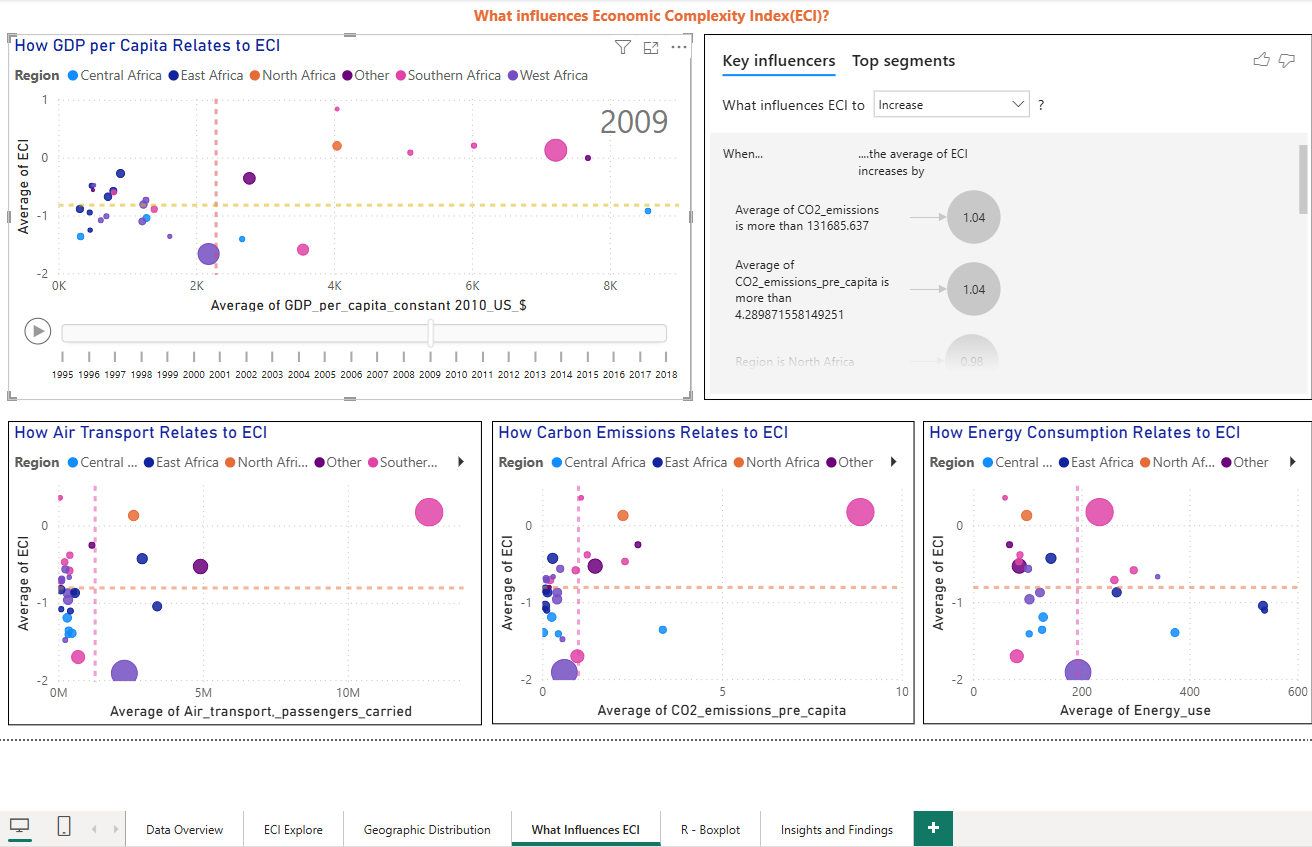

The dashboard page shown, as its layout file describes it:
{"tool":"powerbi","page":{"name":" What Influences ECI","canvas":[1280,720],"ordinal":3},"visuals":[{"type":"textbox","box":[9.7,0,1251.8,50.6],"z":0},{"type":"scatterChart","title":"How GDP per Capita Relates to ECI","fields":{"X":["Avg(Energy_Data.GDP_per_capita_constant 2010_US_$)"],"Y":["Avg(Energy_Data.ECI)"],"Category":["Energy_Data.Country_Name"],"Play":["Energy_Data.Year_"],"Size":["Avg(Energy_Data.GDP_constant_2010_US$)"],"Series":["Energy_Data.Region"]},"box":[9.9,34,665.4,356.4],"z":1000},{"type":"keyDriversVisual","fields":{"Target":["Energy_Data.ECI"],"ExplainBy":["Avg(Energy_Data.GDP_constant_2010_US$)","Avg(Energy_Data.Energy_use)","Avg(Energy_Data.CO2_emissions)","Energy_Data.Region","Avg(Energy_Data.CO2_emissions_pre_capita)","Avg(Energy_Data.Coal_rents_percent)","Avg(Energy_Data.number_of_international_arrivals)","Avg(Energy_Data.GDP_per_capita_constant 2010_US_$)"]},"box":[686.9,34,592.8,356.4],"z":2000},{"type":"scatterChart","title":"How Energy Consumption Relates to ECI","fields":{"Y":["Avg(Energy_Data.ECI)"],"X":["Avg(Energy_Data.Energy_use)"],"Category":["Energy_Data.Country_Name"],"Series":["Energy_Data.Region"],"Size":["Avg(Energy_Data.GDP_constant_2010_US$)"]},"box":[899.7,410.5,380.3,294.7],"z":3000},{"type":"scatterChart","title":"How Carbon Emissions Relates to ECI","fields":{"X":["Avg(Energy_Data.CO2_emissions_pre_capita)"],"Y":["Avg(Energy_Data.ECI)"],"Series":["Energy_Data.Region"],"Category":["Energy_Data.Country_Name"],"Size":["Avg(Energy_Data.GDP_constant_2010_US$)"]},"box":[480.5,410.5,411.4,294.7],"z":4000},{"type":"scatterChart","title":"How Air Transport Relates to ECI","fields":{"Y":["Avg(Energy_Data.ECI)"],"Series":["Energy_Data.Region"],"Category":["Energy_Data.Country_Name"],"X":["Avg(Energy_Data.Air_transport,_passengers_carried)"],"Size":["Avg(Energy_Data.GDP_constant_2010_US$)"]},"box":[9.7,410.5,461,295.7],"z":5000}]}

Visuals, with their boxes on the page's 1280x720 design canvas (x1, y1, x2, y2). These are canvas units, not pixel positions in the 1312x847 screenshot, which may show the page scaled, cropped or inside an application window:
textbox: {"x1": 10, "y1": 0, "x2": 1262, "y2": 51}
"How GDP per Capita Relates to ECI" scatterChart: {"x1": 10, "y1": 34, "x2": 675, "y2": 390}
keyDriversVisual - Energy_Data.ECI x Avg(Energy_Data.GDP_constant_2010_US$): {"x1": 687, "y1": 34, "x2": 1280, "y2": 390}
"How Energy Consumption Relates to ECI" scatterChart: {"x1": 900, "y1": 410, "x2": 1280, "y2": 705}
"How Carbon Emissions Relates to ECI" scatterChart: {"x1": 480, "y1": 410, "x2": 892, "y2": 705}
"How Air Transport Relates to ECI" scatterChart: {"x1": 10, "y1": 410, "x2": 471, "y2": 706}
